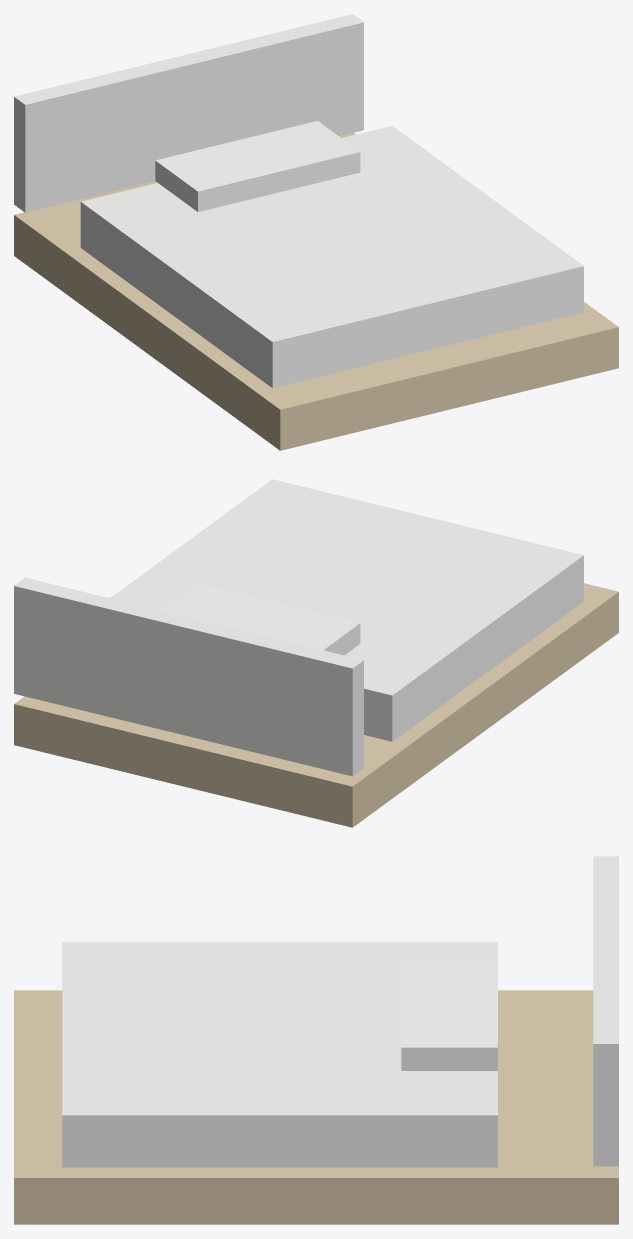
Rendered from cama-casal.glb.
The picture shows the model from 3 angles, top to bottom: view 1: azimuth 30°, elevation 25°; view 2: azimuth 150°, elevation 25°; view 3: azimuth 270°, elevation 25°; orthographic projection. The views are drawn at different scales.
Size of the model in its own units: 1.38 by 0.62 by 1.88.
